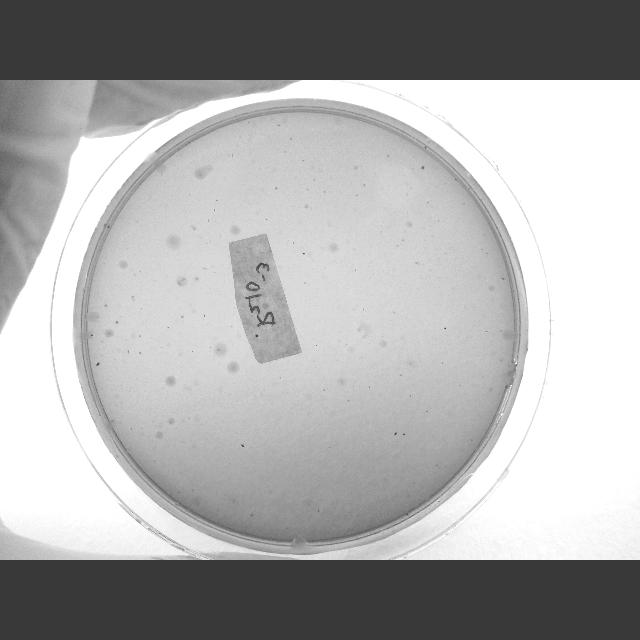colony: (114, 320, 120, 324), (454, 176, 458, 182), (421, 166, 425, 170), (424, 145, 428, 149), (322, 189, 326, 193), (274, 187, 278, 191), (283, 150, 287, 154), (312, 178, 316, 182), (106, 225, 110, 229), (104, 303, 108, 307), (126, 350, 130, 354), (96, 362, 100, 366), (138, 351, 142, 355), (138, 334, 142, 338), (115, 454, 119, 458), (284, 526, 288, 530), (458, 384, 462, 388), (501, 277, 505, 281), (264, 217, 268, 221), (394, 432, 398, 436), (402, 432, 406, 436), (241, 444, 245, 448), (250, 513, 253, 517), (441, 361, 444, 365), (302, 252, 306, 255), (387, 154, 389, 158), (307, 188, 309, 192), (277, 124, 281, 126), (248, 120, 250, 124), (232, 153, 234, 157), (104, 224, 106, 228), (90, 334, 94, 336), (203, 314, 205, 318), (168, 494, 172, 496), (192, 488, 194, 492), (318, 509, 320, 513), (406, 512, 408, 516), (471, 438, 473, 442), (484, 330, 488, 332), (354, 268, 356, 272), (256, 334, 258, 338), (214, 208, 216, 212), (207, 219, 209, 223), (167, 327, 170, 329), (192, 351, 194, 354), (130, 426, 132, 429), (178, 491, 180, 494), (444, 182, 446, 185), (444, 326, 446, 329), (356, 194, 358, 196), (290, 138, 292, 140), (302, 160, 304, 162), (211, 299, 213, 301), (210, 346, 212, 348), (317, 500, 319, 502), (438, 500, 440, 502), (500, 330, 502, 332), (363, 308, 365, 310), (409, 395, 411, 397), (216, 199, 218, 201), (293, 242, 295, 244), (304, 282, 306, 284), (426, 411, 428, 412)
